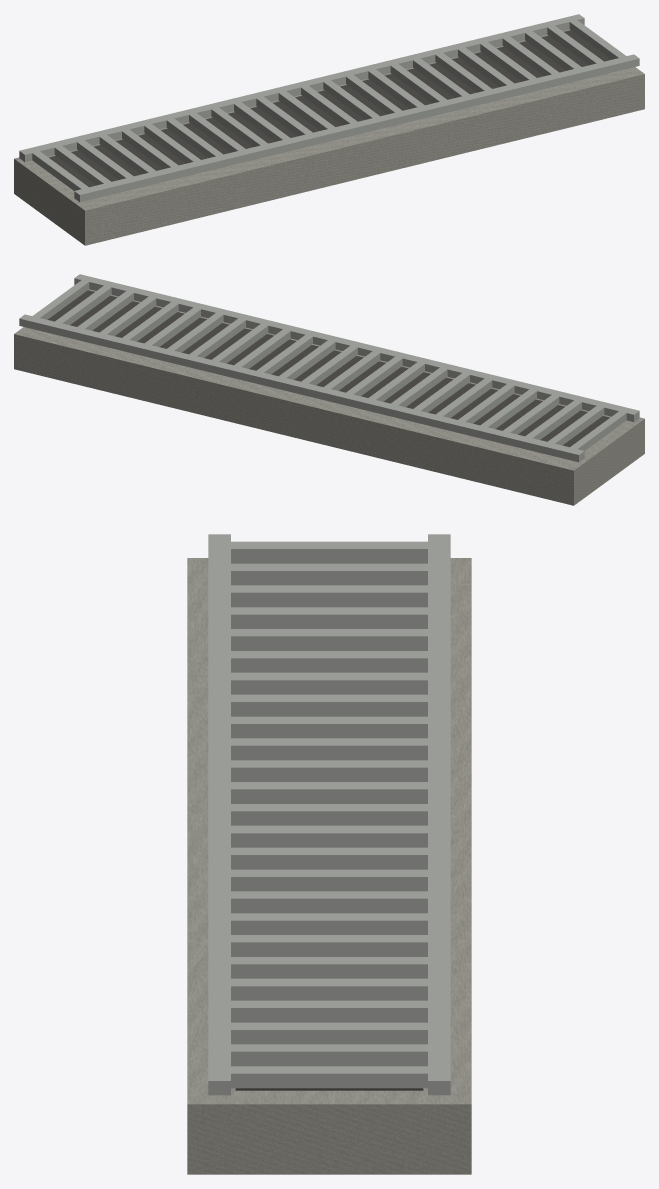
Rendered from signal-house-concrete-drainage-channel__212.glb.
3 renders of one model, top to bottom at view 1: azimuth 30°, elevation 25°; view 2: azimuth 150°, elevation 25°; view 3: azimuth 270°, elevation 25°, orthographic. The views are drawn at different scales.
Parts seen in each view (by area): view 1: metal, stone, dark; view 2: metal, stone, dark; view 3: metal, stone.
Part boxes in pixels (box(x1,y1,x2,y2)): metal: box(19, 14, 639, 202); stone: box(14, 29, 644, 245); dark: box(49, 30, 611, 187); metal: box(19, 274, 639, 462); stone: box(14, 289, 644, 505); dark: box(47, 290, 609, 447); metal: box(208, 534, 450, 1095); stone: box(187, 558, 471, 1174).
Bounding box in the file's own units: 2 × 0.16 × 0.44.
Materials: 3 (1 with a texture image).
